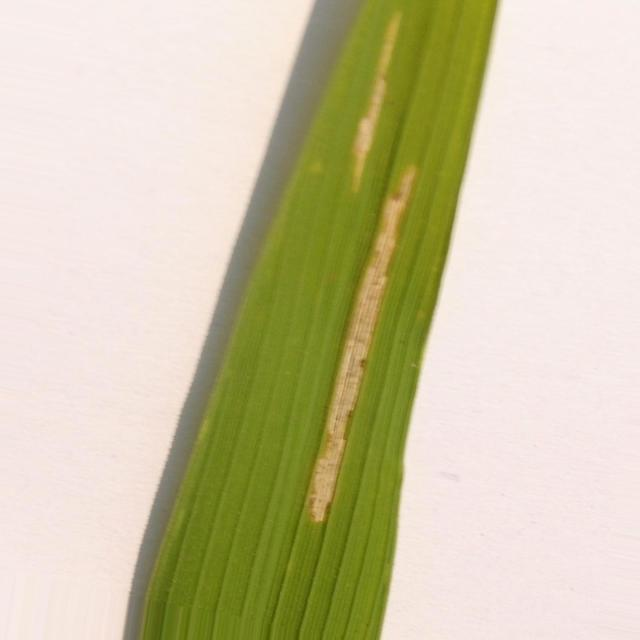Bacterial_Leaf_Blight: (308, 166, 416, 522), (352, 12, 401, 190)
